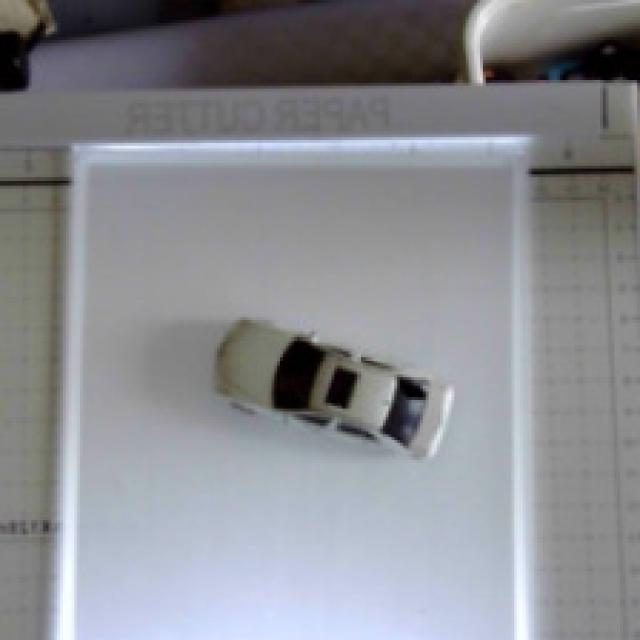Grey Car: (145, 277, 509, 504)
